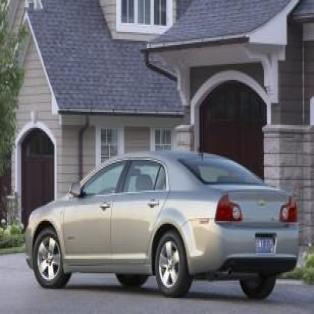Auto: (21, 148, 303, 302)
